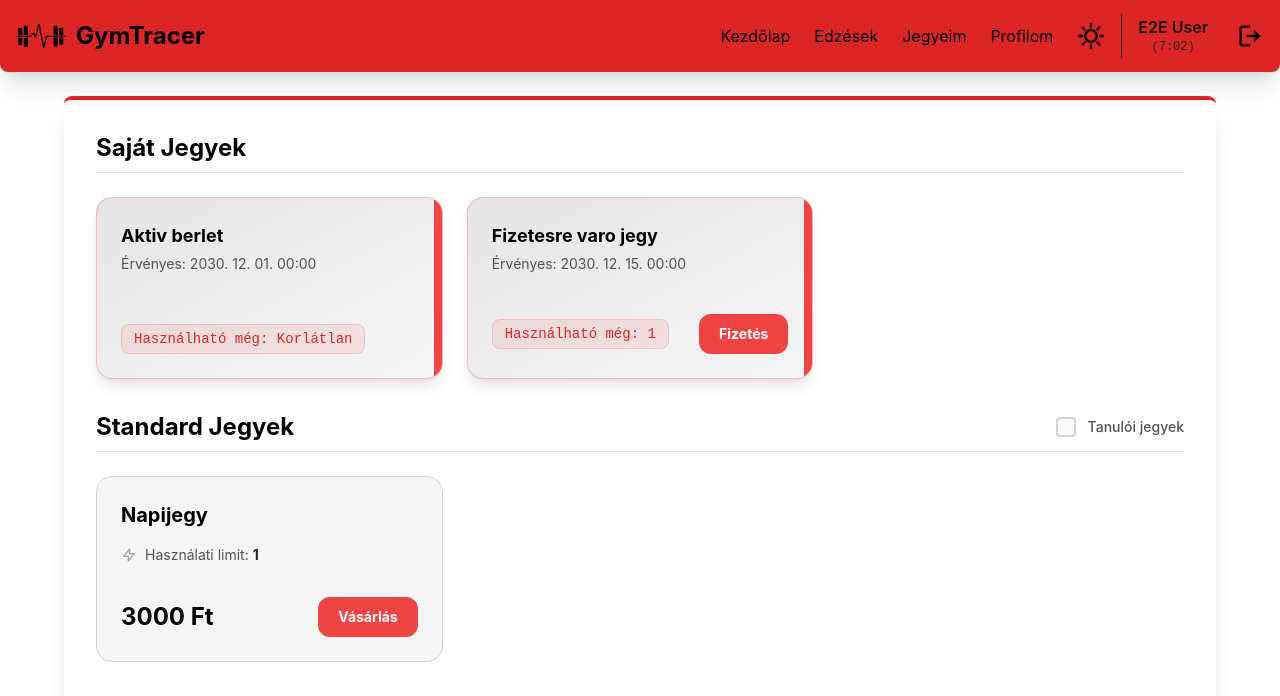
Test case: Tickets page e2e interactions › toggles standard student filter and refreshes ticket list
This screenshot has width=1280, height=696.
What coordinates should you click on to do the following:
check the checkbox with id "studentFilter1"
I would click on:
 (1066, 427)
Its box is [1056,417,1076,437].
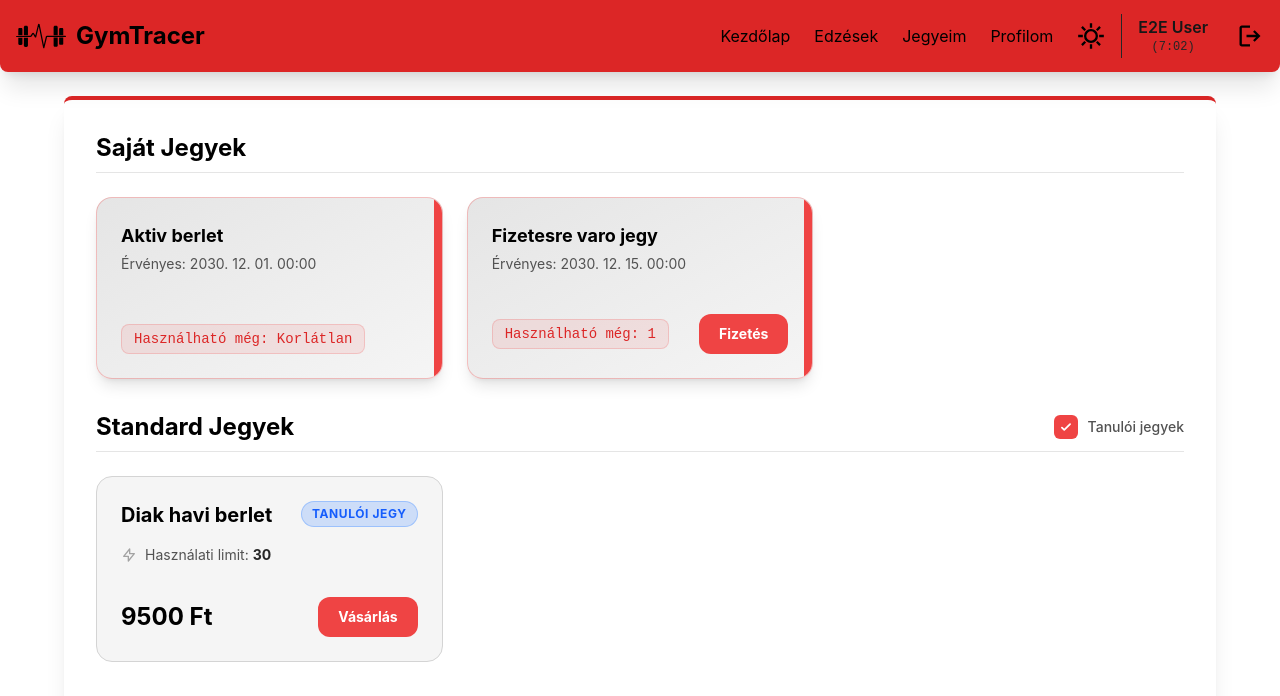
Check: the heading "Diak havi berlet" is shown, box [121,501,272,529]
Check: the heading "Napijegy" is gone
